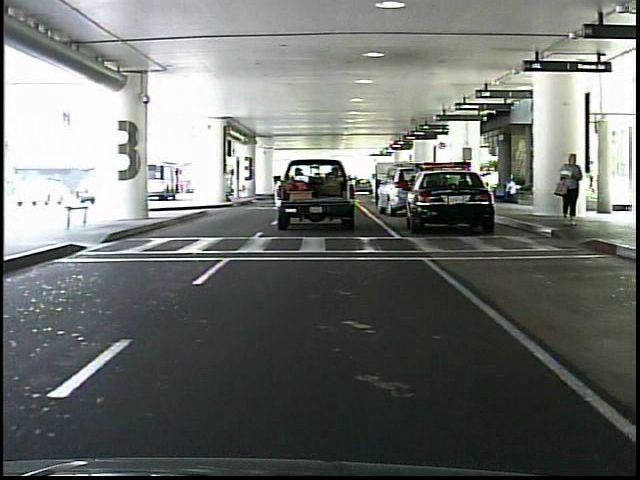person: (554, 148, 586, 231)
